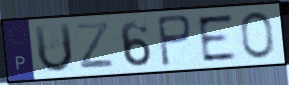6: (118, 18, 154, 68)
E: (195, 12, 240, 64)
O: (239, 10, 277, 61)
P: (155, 13, 195, 68)
U: (32, 20, 76, 75)
Z: (74, 20, 116, 71)
